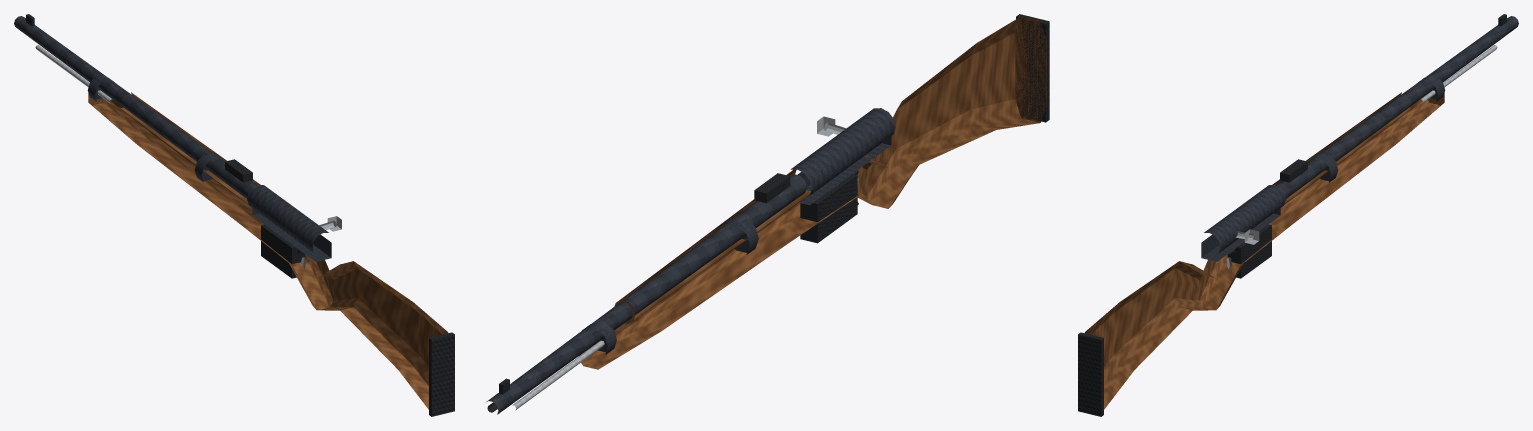
Rendered from mosin_91_30.glb.
3 views of the same model, side by side, from view 1: azimuth 30°, elevation 25°; view 2: azimuth 150°, elevation 25°; view 3: azimuth 330°, elevation 25° (orthographic). The views are drawn at different scales.
Visible parts, largest first — view 1: WeaponMesh; view 2: WeaponMesh; view 3: WeaponMesh.
Part boxes in pixels (x1,y1,x2,y2): WeaponMesh: [14, 14, 454, 416]; WeaponMesh: [486, 14, 1049, 414]; WeaponMesh: [1078, 14, 1518, 416].
Bounding box in the file's own units: 0.0735 × 0.154 × 1.2.
Materials: 4 (4 with a texture image).
